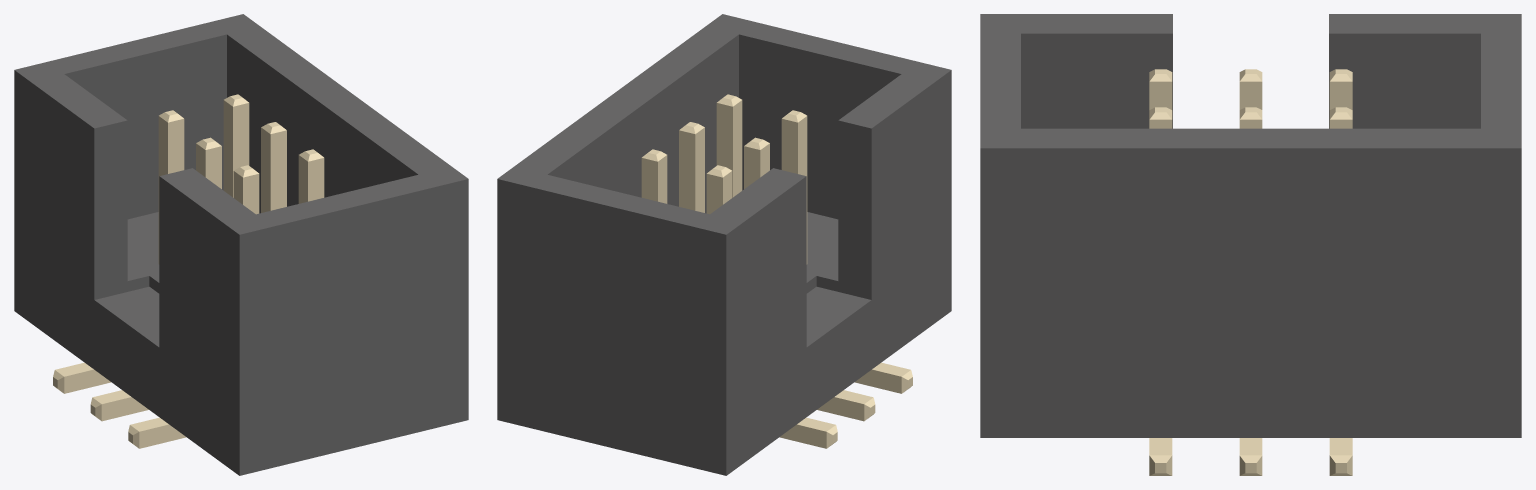
File: kc-idc-header_2x03_p2.54mm_vertical_smd.glb
The picture shows the model from 3 angles, left to right: view 1: azimuth 30°, elevation 25°; view 2: azimuth 150°, elevation 25°; view 3: azimuth 270°, elevation 25°; orthographic projection. The views are drawn at different scales.
Visible parts, largest first — view 1: 0.16666666666666666_0.16666666666666666_0.16666666666666666_, 0.8333333333333334_0.75_0.5_0.9; view 2: 0.16666666666666666_0.16666666666666666_0.16666666666666666_, 0.8333333333333334_0.75_0.5_0.9; view 3: 0.16666666666666666_0.16666666666666666_0.16666666666666666_, 0.8333333333333334_0.75_0.5_0.9.
Part boxes in pixels (x1=…): 0.16666666666666666_0.16666666666666666_0.16666666666666666_: x1=14, y1=14, x2=468, y2=475; 0.8333333333333334_0.75_0.5_0.9: x1=53, y1=94, x2=324, y2=448; 0.16666666666666666_0.16666666666666666_0.16666666666666666_: x1=497, y1=14, x2=951, y2=475; 0.8333333333333334_0.75_0.5_0.9: x1=641, y1=94, x2=912, y2=448; 0.16666666666666666_0.16666666666666666_0.16666666666666666_: x1=980, y1=14, x2=1521, y2=437; 0.8333333333333334_0.75_0.5_0.9: x1=1149, y1=69, x2=1352, y2=475.
Bounding box in the file's own units: 1.16 × 0.964 × 1.52.
